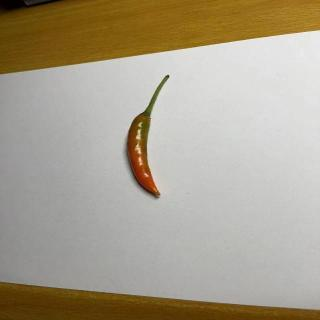Cabai Merah: (127, 75, 170, 197)
